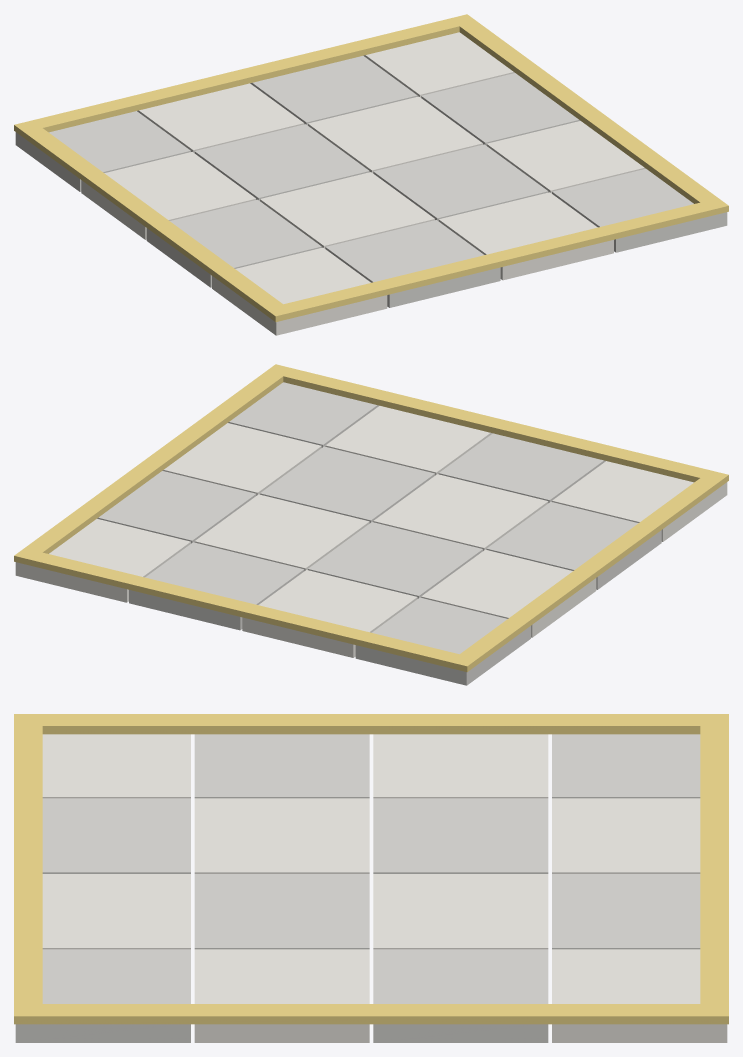
The model's file is mythic-underworld-and-olympus-throne-hall-floor-7a5c97f4__21386.glb.
3 renders of one model, top to bottom at view 1: azimuth 30°, elevation 25°; view 2: azimuth 150°, elevation 25°; view 3: azimuth 270°, elevation 25°, orthographic. The views are drawn at different scales.
Parts seen in each view (by area): view 1: throne-hall-floor; view 2: throne-hall-floor; view 3: throne-hall-floor.
Boxes of the visible parts, x1,y1,x2,y2 form: throne-hall-floor: [14, 14, 728, 335]; throne-hall-floor: [14, 364, 728, 685]; throne-hall-floor: [14, 714, 728, 1042].
Bounding box in the file's own units: 4 × 0.1699 × 4.
